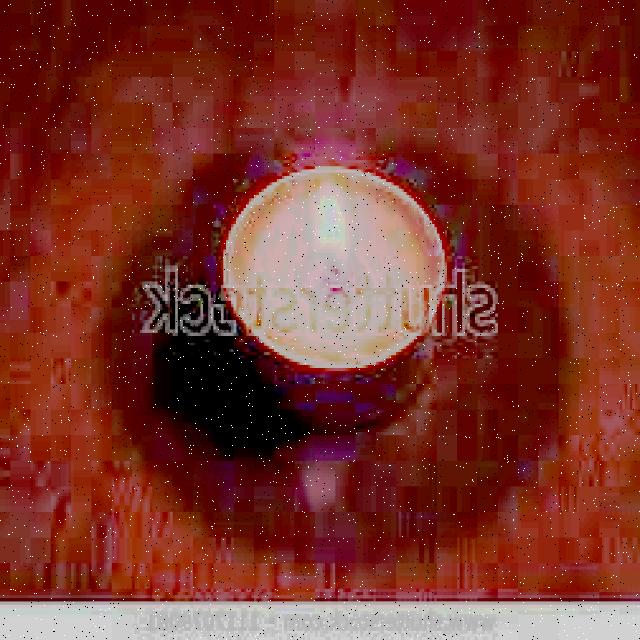api: (311, 184, 369, 270)
